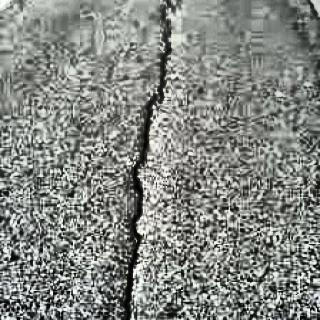crack: (119, 1, 178, 320)
